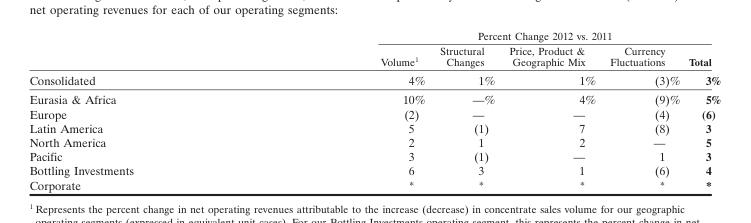table: (28, 28, 719, 191)
table column: (28, 28, 256, 191), (256, 28, 431, 191), (501, 28, 602, 191), (602, 28, 683, 191), (431, 28, 501, 191), (683, 28, 719, 191)
table column header: (28, 28, 719, 69)
table row: (28, 42, 719, 69), (28, 69, 719, 89), (28, 89, 719, 106), (28, 148, 719, 163), (28, 28, 719, 42), (28, 106, 719, 120), (28, 120, 719, 134), (28, 134, 719, 148), (28, 163, 719, 177), (28, 177, 719, 191)
table spanning cell: (256, 28, 719, 42)
